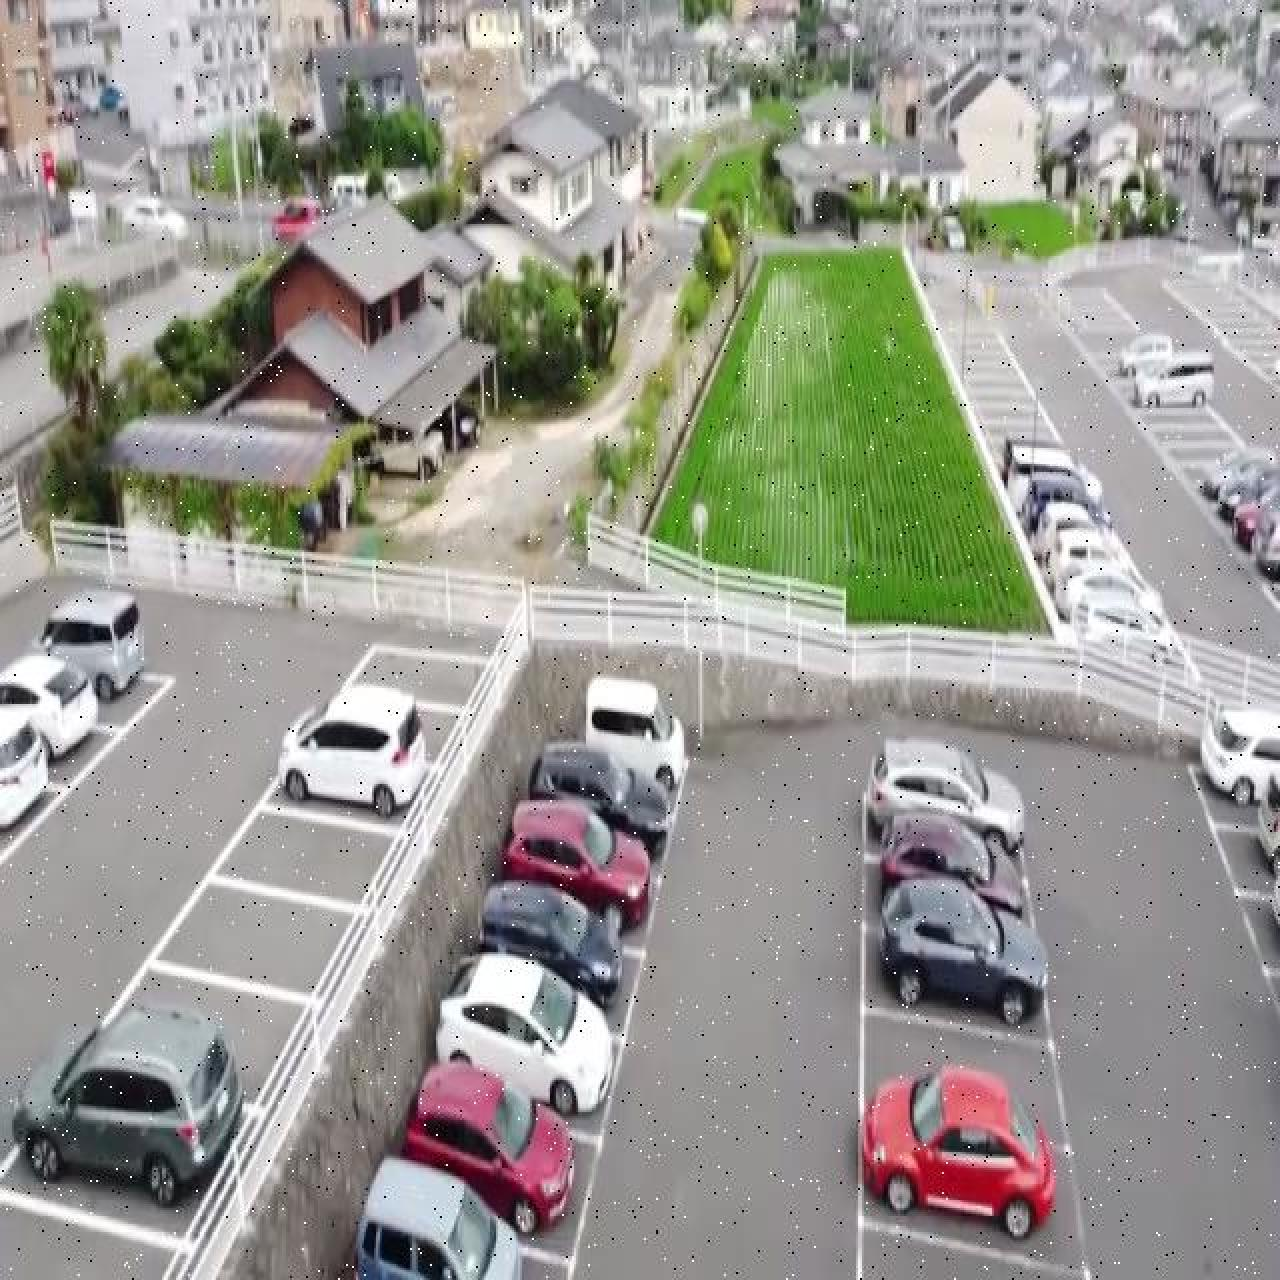car: (12, 1002, 244, 1208), (858, 1062, 1056, 1238), (399, 1060, 576, 1234), (434, 949, 614, 1114), (855, 913, 1048, 1026), (350, 1155, 522, 1278), (275, 682, 428, 816), (498, 798, 652, 928), (476, 878, 622, 1008), (864, 736, 1024, 852), (878, 810, 1024, 914), (526, 740, 672, 840), (34, 588, 144, 700), (583, 674, 686, 790), (1058, 566, 1178, 662), (0, 652, 98, 760), (1005, 440, 1107, 532), (1198, 700, 1278, 806), (0, 710, 50, 830), (1056, 566, 1146, 622), (1044, 527, 1122, 588), (1020, 468, 1098, 527), (1132, 352, 1214, 408), (368, 420, 444, 478), (1030, 501, 1099, 561), (1198, 445, 1274, 501), (1214, 458, 1276, 518), (1010, 444, 1078, 486), (1118, 332, 1176, 377), (1252, 484, 1278, 580), (1254, 772, 1278, 872), (434, 400, 478, 450), (1196, 452, 1238, 498), (1232, 492, 1262, 549), (456, 411, 476, 448), (1266, 874, 1278, 932)
